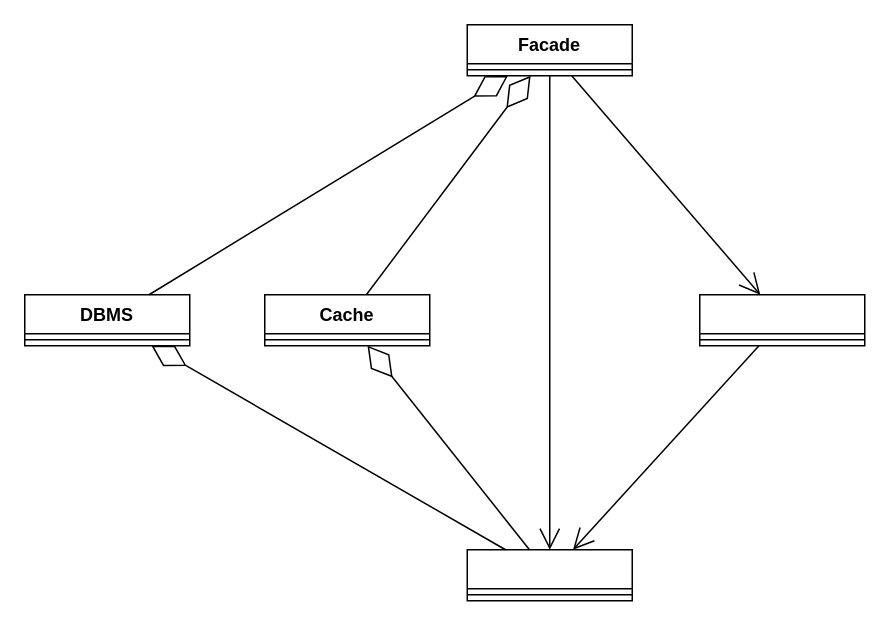
The diagram is 890 pixels wide and 626 high, and some of its shapes have lost their labels. Each missing label, with the centre of its shape:
Message: the point at 781,319
Row: the point at 549,574
